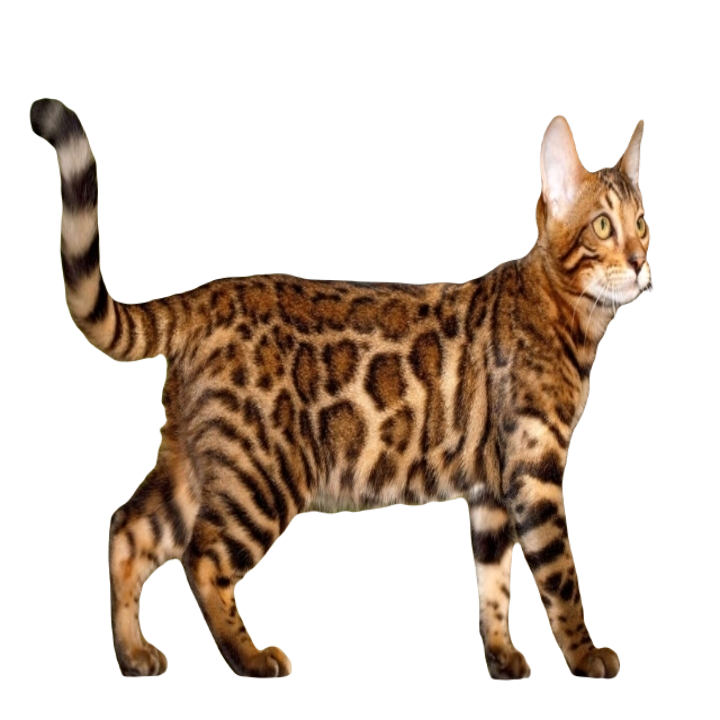Cat: (18, 74, 681, 689)
